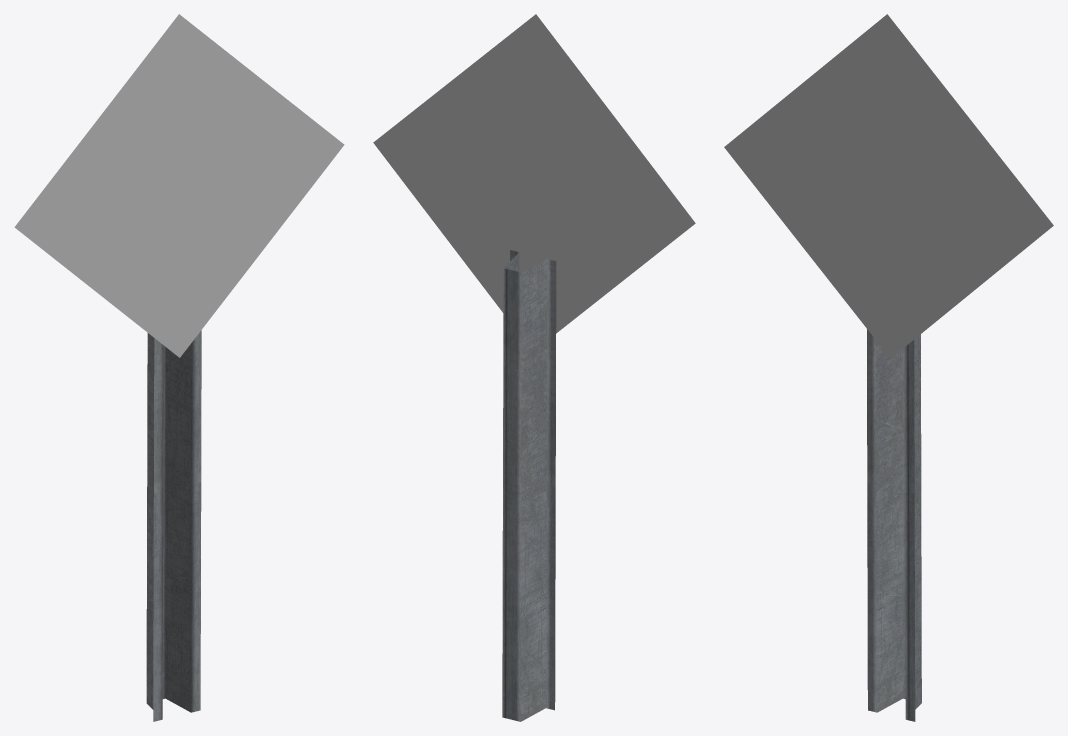
File: deadendstreet.fbx
The picture shows the model from 3 angles, left to right: view 1: azimuth 30°, elevation 25°; view 2: azimuth 150°, elevation 25°; view 3: azimuth 330°, elevation 25°; orthographic projection. The views are drawn at different scales.
Parts seen in each view (by area): view 1: pPlane4; view 2: pPlane4; view 3: pPlane4.
Part boxes in pixels (left/top/right/bottom): pPlane4: left=14, top=14, right=344, bottom=721; pPlane4: left=373, top=14, right=695, bottom=721; pPlane4: left=724, top=14, right=1053, bottom=721.
Size of the model in its own units: 1.24 by 2.53 by 0.1564.
